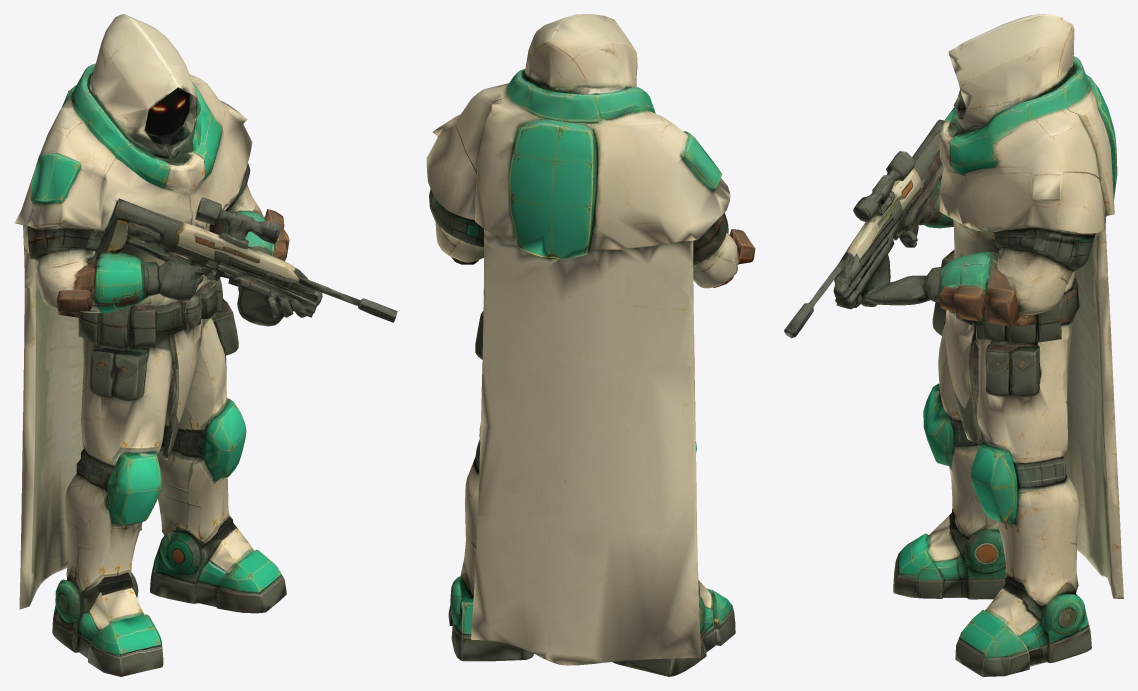
File: wraith.glb
The picture shows the model from 3 angles, left to right: view 1: azimuth 30°, elevation 25°; view 2: azimuth 150°, elevation 25°; view 3: azimuth 270°, elevation 25°; orthographic projection. The views are drawn at different scales.
Visible parts, largest first — view 1: mesh_node; view 2: mesh_node; view 3: mesh_node.
Part boxes in pixels (bbox=[...]): mesh_node: bbox=[14, 14, 397, 676]; mesh_node: bbox=[426, 14, 755, 676]; mesh_node: bbox=[784, 14, 1123, 676].
Bounding box in the file's own units: 0.9094 × 1.9 × 0.9748.
Materials: 1 (1 with a texture image).
